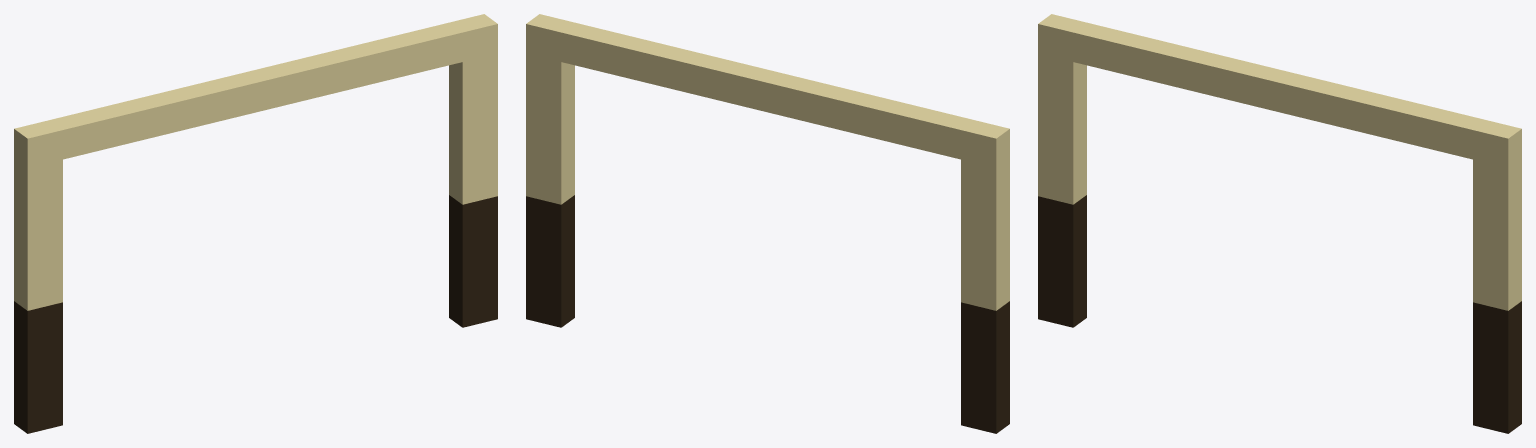
Rendered from Entrance.fbx.
3 renders of one model, left to right at view 1: azimuth 30°, elevation 25°; view 2: azimuth 150°, elevation 25°; view 3: azimuth 330°, elevation 25°, orthographic.
Parts seen in each view (by area): view 1: Entrance; view 2: Entrance; view 3: Entrance.
Boxes of the visible parts, x1,y1,x2,y2 form: Entrance: (14, 14, 497, 433); Entrance: (526, 14, 1009, 433); Entrance: (1038, 14, 1521, 433).
Size of the model in its own units: 400 by 240 by 20.
